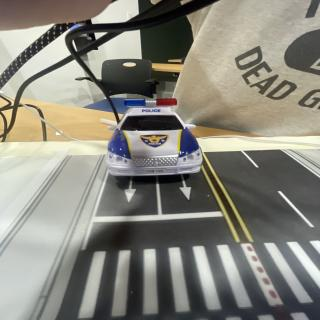Police_car: (106, 99, 202, 176)
